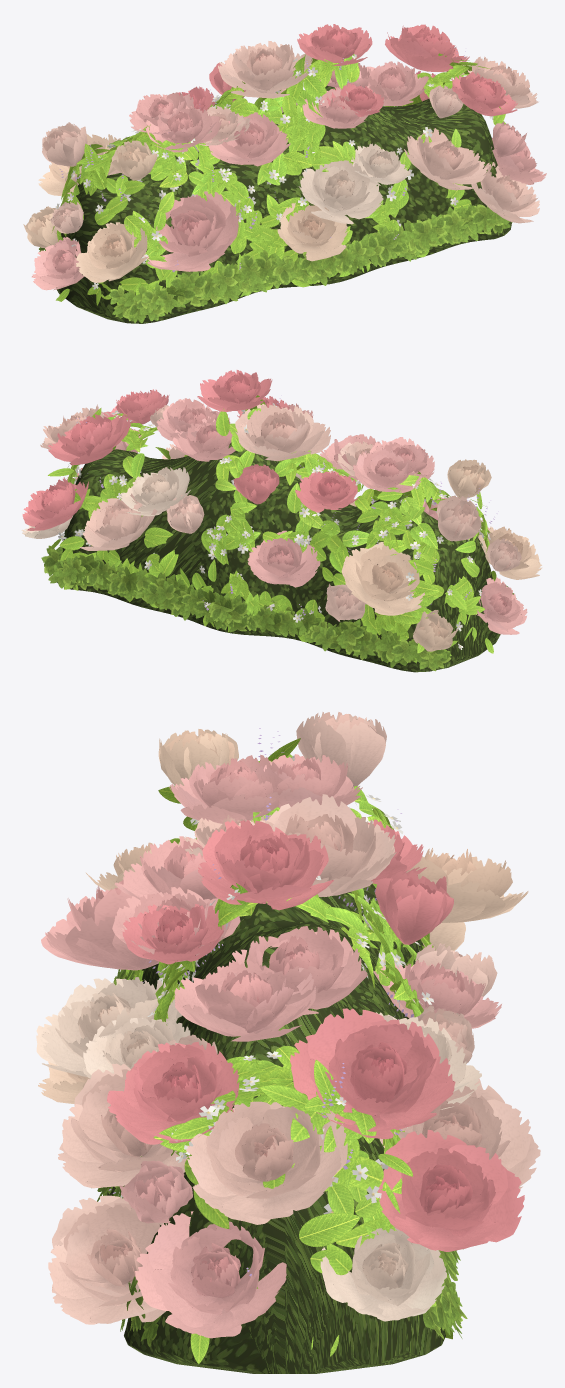
File: FlowerBank_1m_sample_A_1002_v21.glb
3 views of the same model, one above another, from view 1: azimuth 30°, elevation 25°; view 2: azimuth 150°, elevation 25°; view 3: azimuth 270°, elevation 25° (orthographic). The views are drawn at different scales.
Visible parts, largest first — view 1: FlowerBank_1m; view 2: FlowerBank_1m; view 3: FlowerBank_1m.
Boxes of the visible parts, x1,y1,x2,y2 form: FlowerBank_1m: (23, 24, 546, 323); FlowerBank_1m: (21, 370, 542, 672); FlowerBank_1m: (36, 712, 540, 1373).
Size of the model in its own units: 1.33 by 0.5446 by 0.6647.
Materials: 5 (4 with a texture image).
